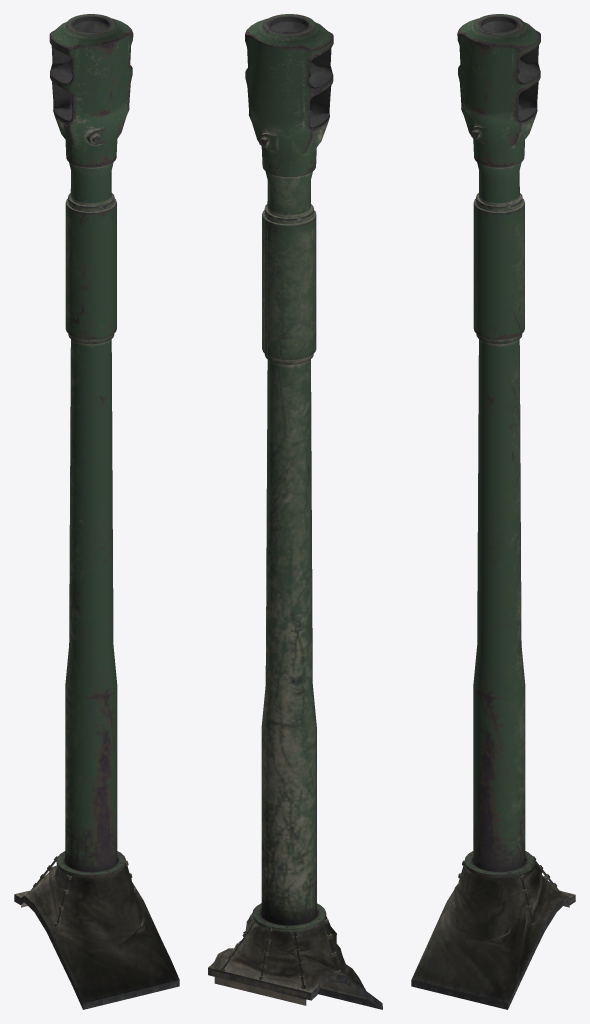
Rendered from Gun_06.glb.
The picture shows the model from 3 angles, left to right: view 1: azimuth 30°, elevation 25°; view 2: azimuth 150°, elevation 25°; view 3: azimuth 330°, elevation 25°; orthographic projection. The views are drawn at different scales.
Visible parts, largest first — view 1: set_0_group_0; view 2: set_0_group_0; view 3: set_0_group_0.
Part boxes in pixels (x1,y1,x2,y2): set_0_group_0: [14, 14, 179, 1009]; set_0_group_0: [208, 14, 382, 1009]; set_0_group_0: [411, 14, 575, 1009].
Bounding box in the file's own units: 0.536 × 4.95 × 0.6467.
1 material, 1 textured.
